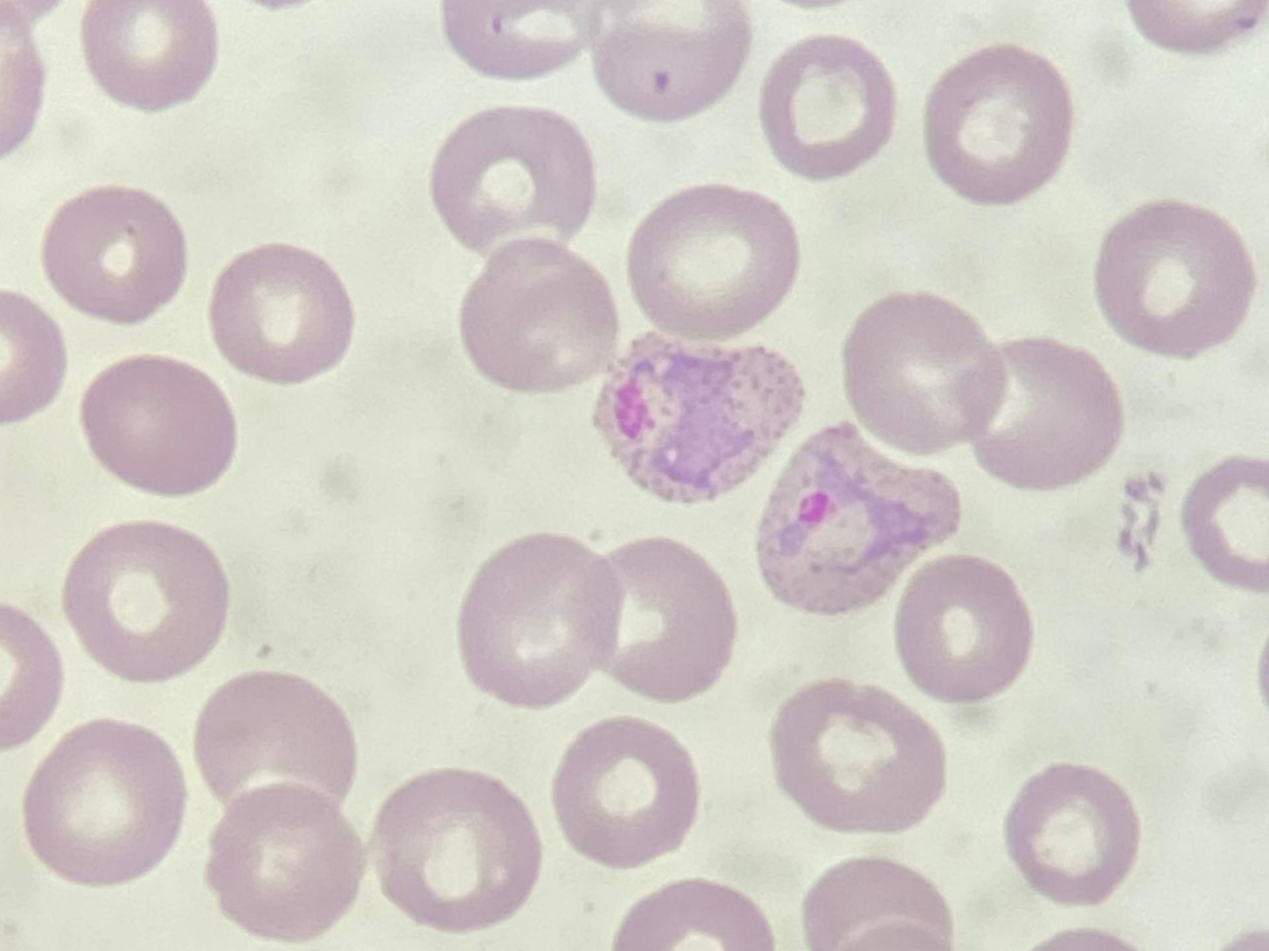Infected: (753, 423, 960, 614), (590, 333, 804, 505)
Uninfected: (459, 536, 627, 711), (23, 717, 187, 890), (843, 291, 1008, 462), (428, 107, 598, 269), (568, 539, 738, 701), (625, 184, 799, 339), (770, 681, 944, 836), (61, 521, 229, 680), (1092, 197, 1258, 354), (373, 772, 539, 927), (198, 668, 355, 831), (962, 336, 1122, 490), (459, 240, 619, 394), (207, 780, 360, 940), (925, 43, 1075, 205), (79, 354, 237, 495), (554, 714, 695, 865), (760, 32, 896, 184), (208, 245, 356, 384), (894, 556, 1032, 703), (45, 184, 188, 324), (587, 4, 753, 124), (1008, 759, 1139, 905), (81, 0, 219, 111)
